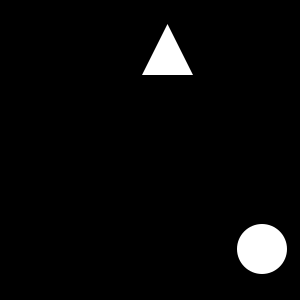rectangle: (237, 224, 287, 274)
triangle: (142, 24, 193, 75)
